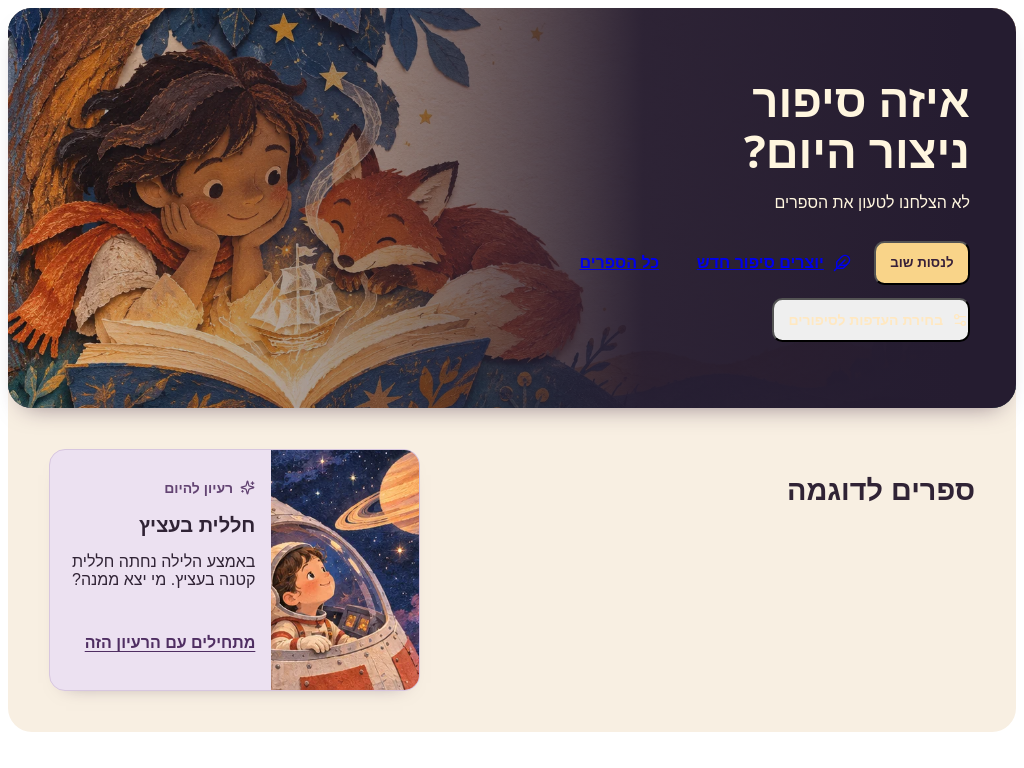
family home › distinguishes a server error from an empty shelf and retries
Expected: the message reads "לא הצלחנו לטעון את הספרים", [775, 194, 970, 211]
Expected: the link "יוצרים סיפור ראשון" is not shown
What coordinates should you click on to do the following:
click the button "לנסות שוב"
I would click on:
 (922, 263)
Its box is [874, 241, 970, 285].
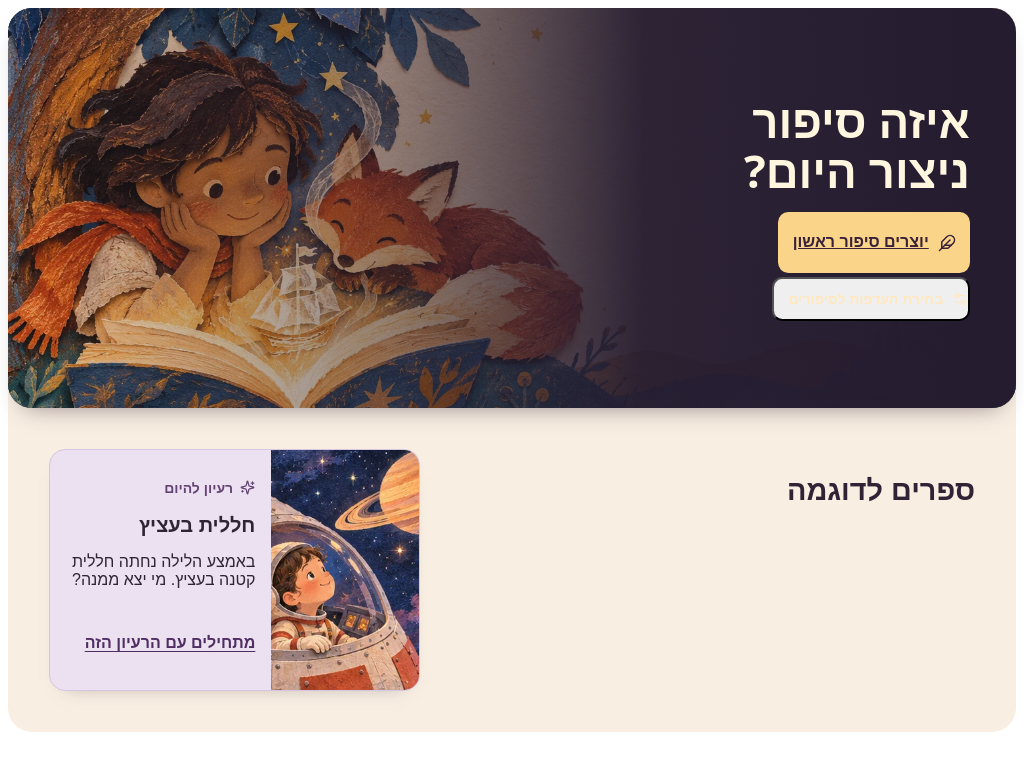
Result: the link "יוצרים סיפור ראשון" is shown at [778, 212, 970, 273]
